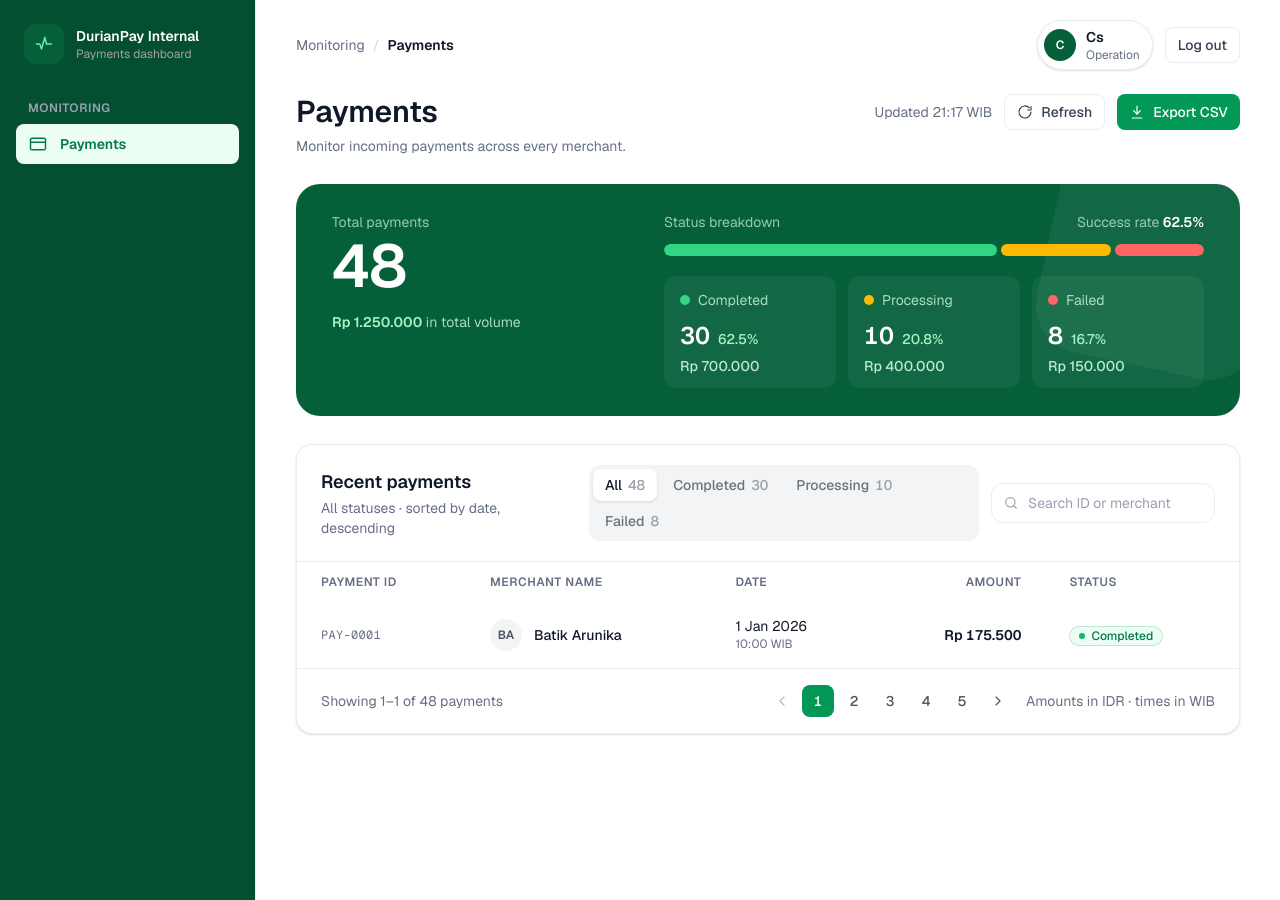
Test: DashboardContainer › toasts 'Export failed' on a generic export error
Expected: the text "Batik Arunika" is shown, [534, 625, 622, 645]
Step 1. Click the button "Export CSV" → {"x": 1179, "y": 112}, box [1117, 94, 1240, 130]
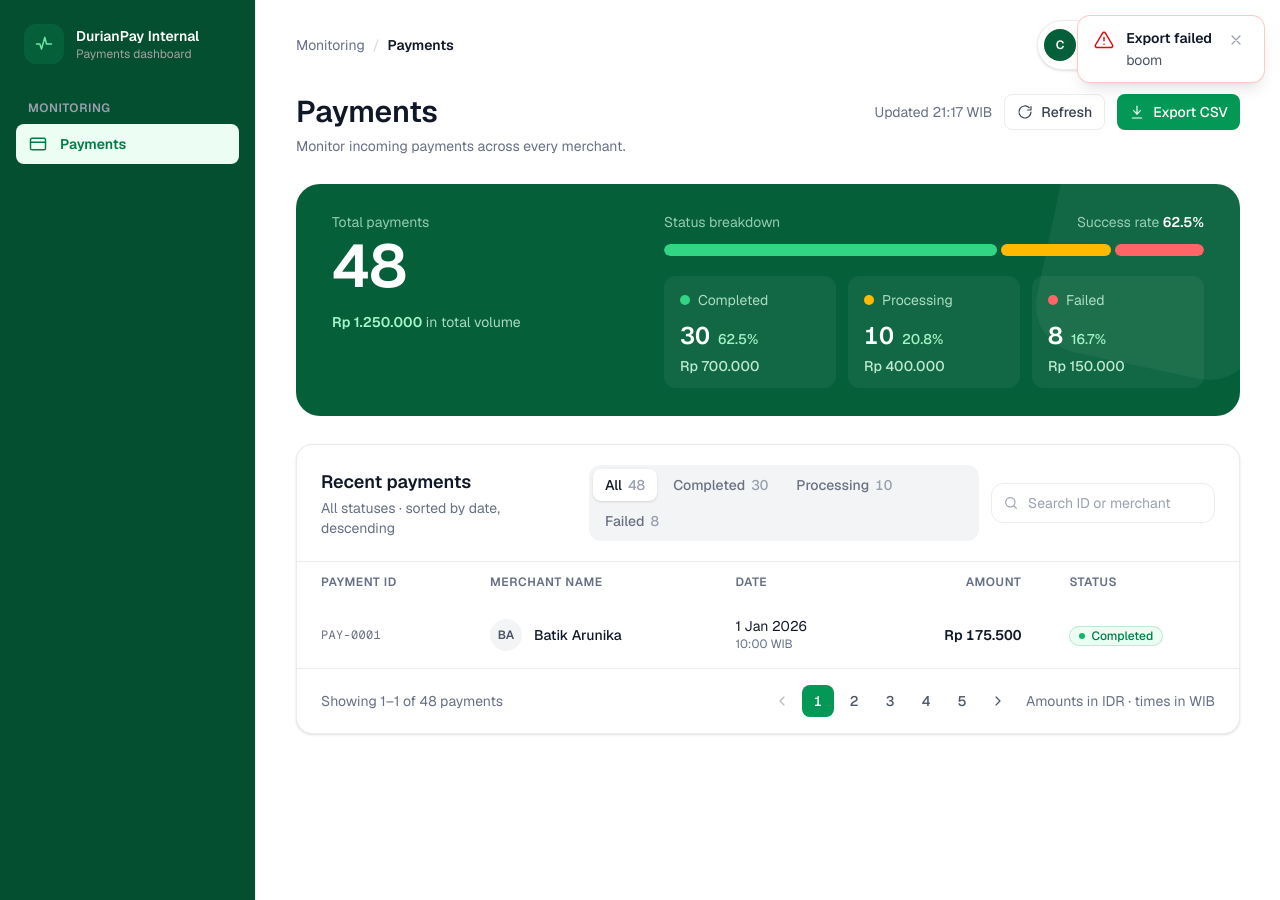
Now the text "Export failed" is shown, box [1126, 28, 1212, 48]
